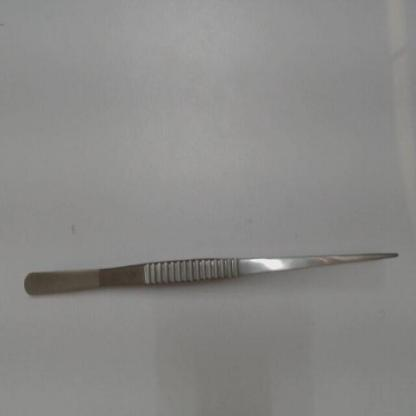DeBakey Dissector: (18, 216, 408, 320)
